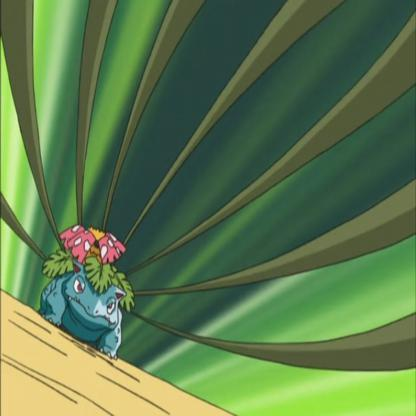Venusaur: (15, 184, 140, 374)
